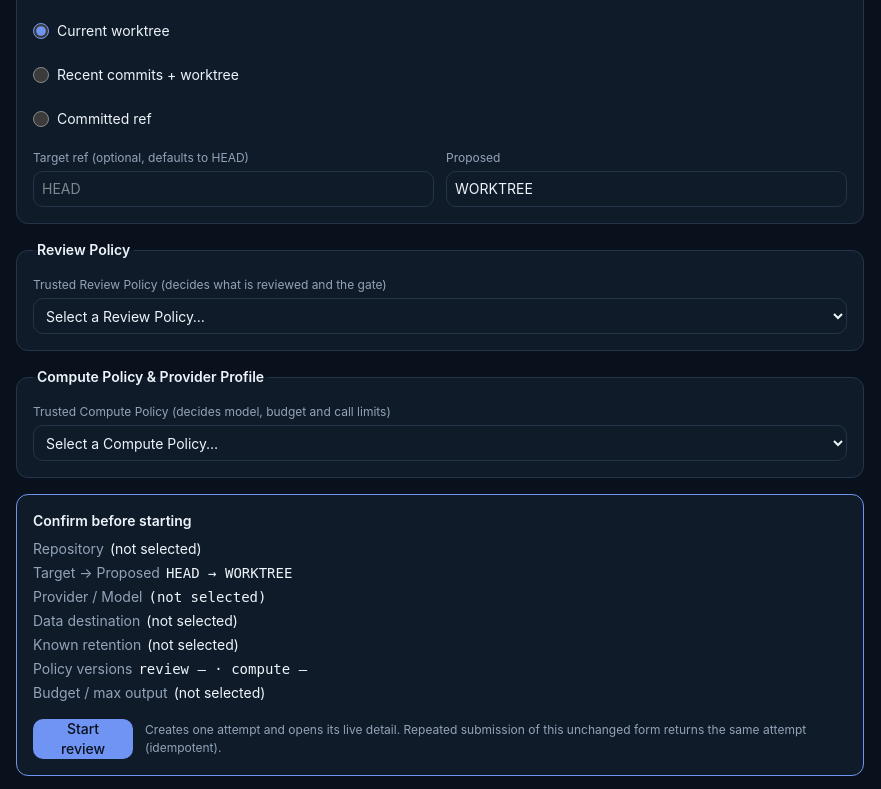
Test case: NewReviewPage › validates required fields inline without submitting
(page scrolled)
Click the button "Start review" at (83,739), box left=33, top=719, right=133, bottom=759
(page scrolled)
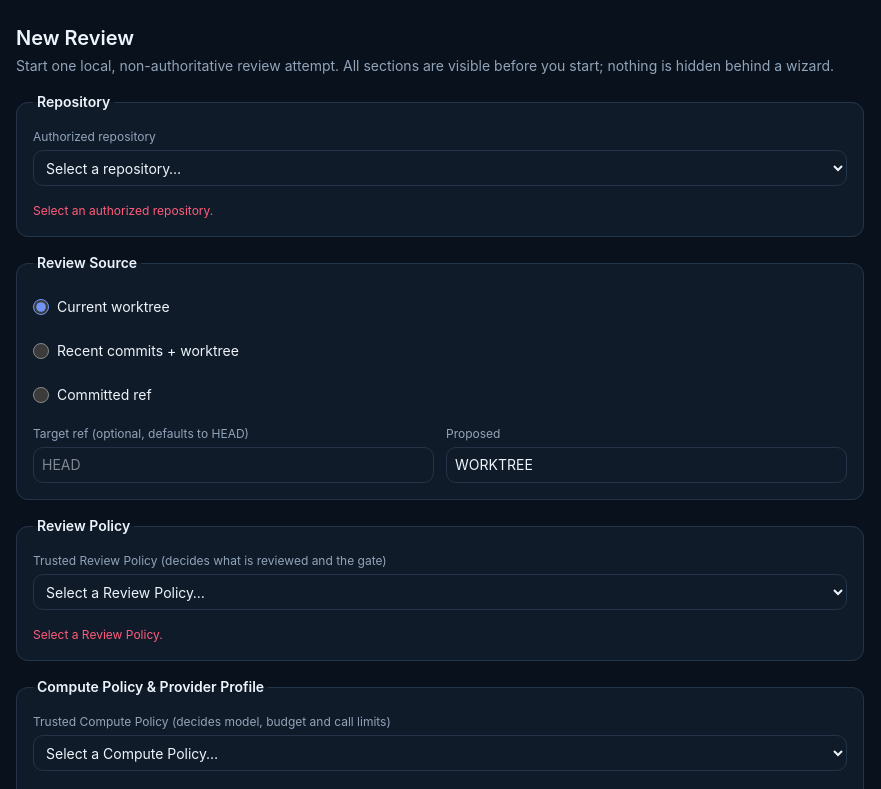
Now the text "Select an authorized repository." is shown, box left=33, top=203, right=213, bottom=218
